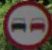No overtake: (4, 4, 49, 43)
